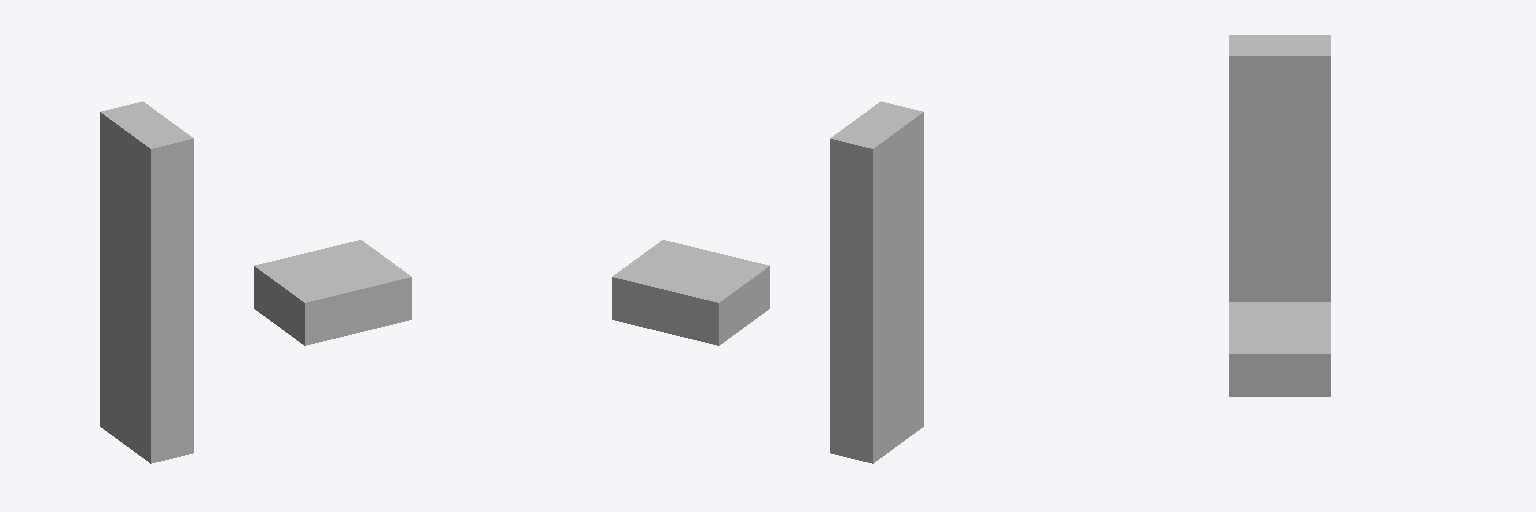
File: one1.obj
The picture shows the model from 3 angles: view 1: azimuth 30°, elevation 25°; view 2: azimuth 150°, elevation 25°; view 3: azimuth 270°, elevation 25°; orthographic projection.
Parts seen in each view (by area): view 1: Blue_Team__Text; view 2: Blue_Team__Text; view 3: Blue_Team__Text.
Boxes of the visible parts, x1=… form: Blue_Team__Text: x1=100, y1=101, x2=411, y2=463; Blue_Team__Text: x1=612, y1=101, x2=923, y2=463; Blue_Team__Text: x1=1229, y1=35, x2=1330, y2=396.
Bounding box in the file's own units: 0.5922 × 0.682 × 0.2.